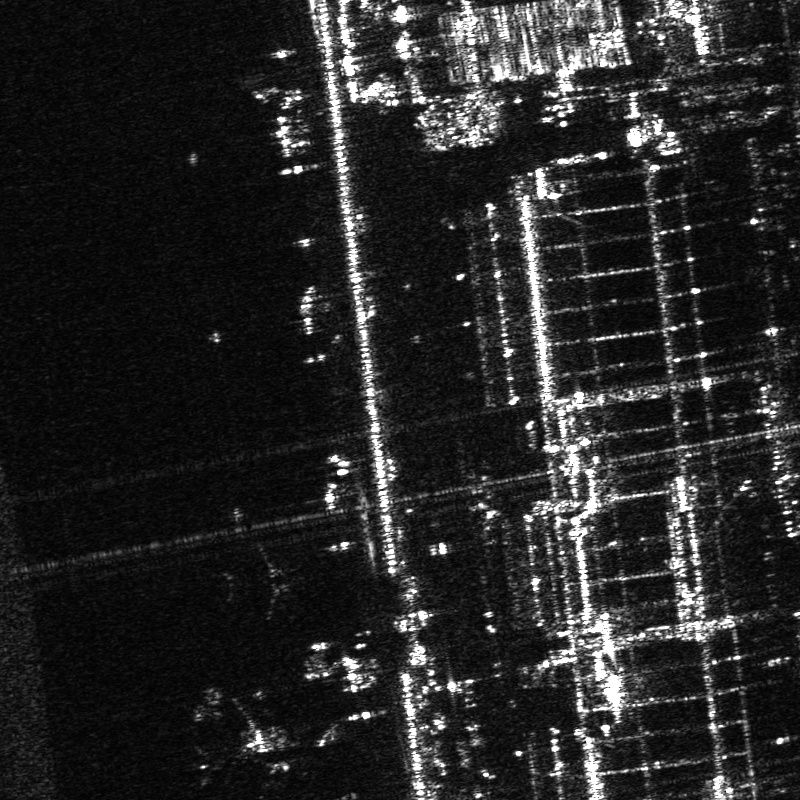Boeing787: (196, 698, 306, 799), (215, 539, 303, 622)
